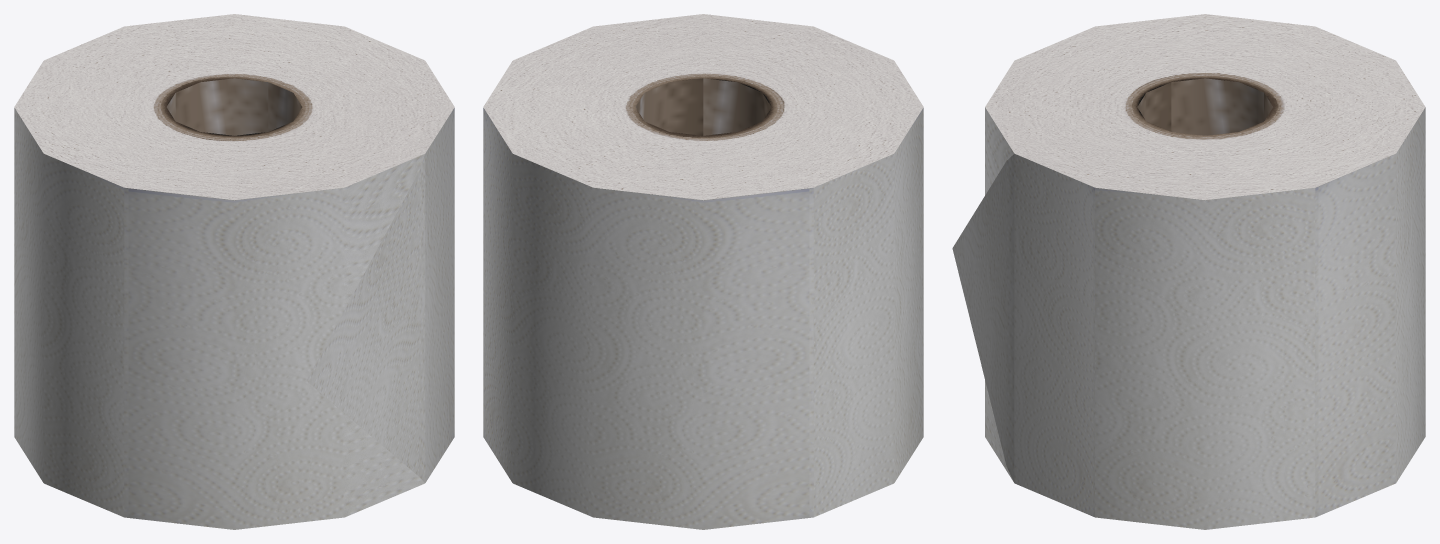
The model's file is papel.fbx.
3 views of the same model, side by side, from view 1: azimuth 30°, elevation 25°; view 2: azimuth 150°, elevation 25°; view 3: azimuth 270°, elevation 25° (orthographic).
Visible parts, largest first — view 1: Cylinder; view 2: Cylinder; view 3: Cylinder.
Boxes of the visible parts, <box> form: Cylinder: <box>14,14,454,529</box>; Cylinder: <box>483,14,923,529</box>; Cylinder: <box>952,14,1425,529</box>.
Bounding box in the file's own units: 200 × 165 × 215.
Materials: 2 (2 with a texture image).
